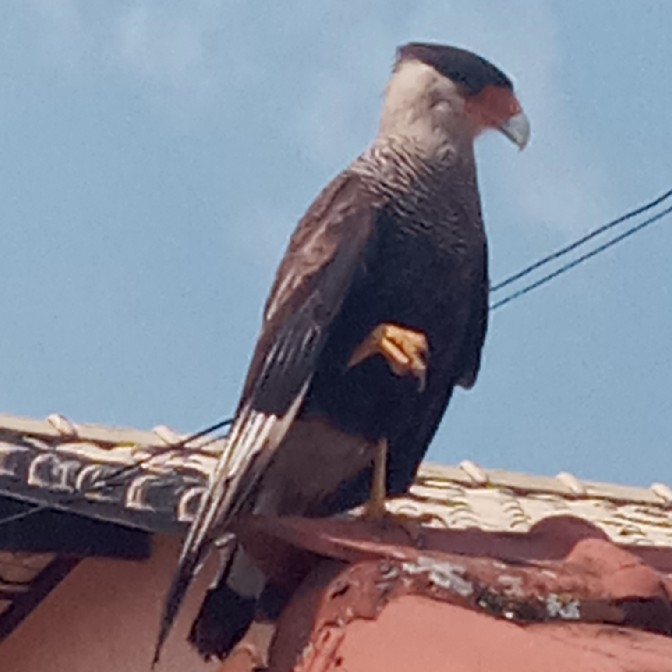Not_a_Chicken: (198, 24, 535, 659)
